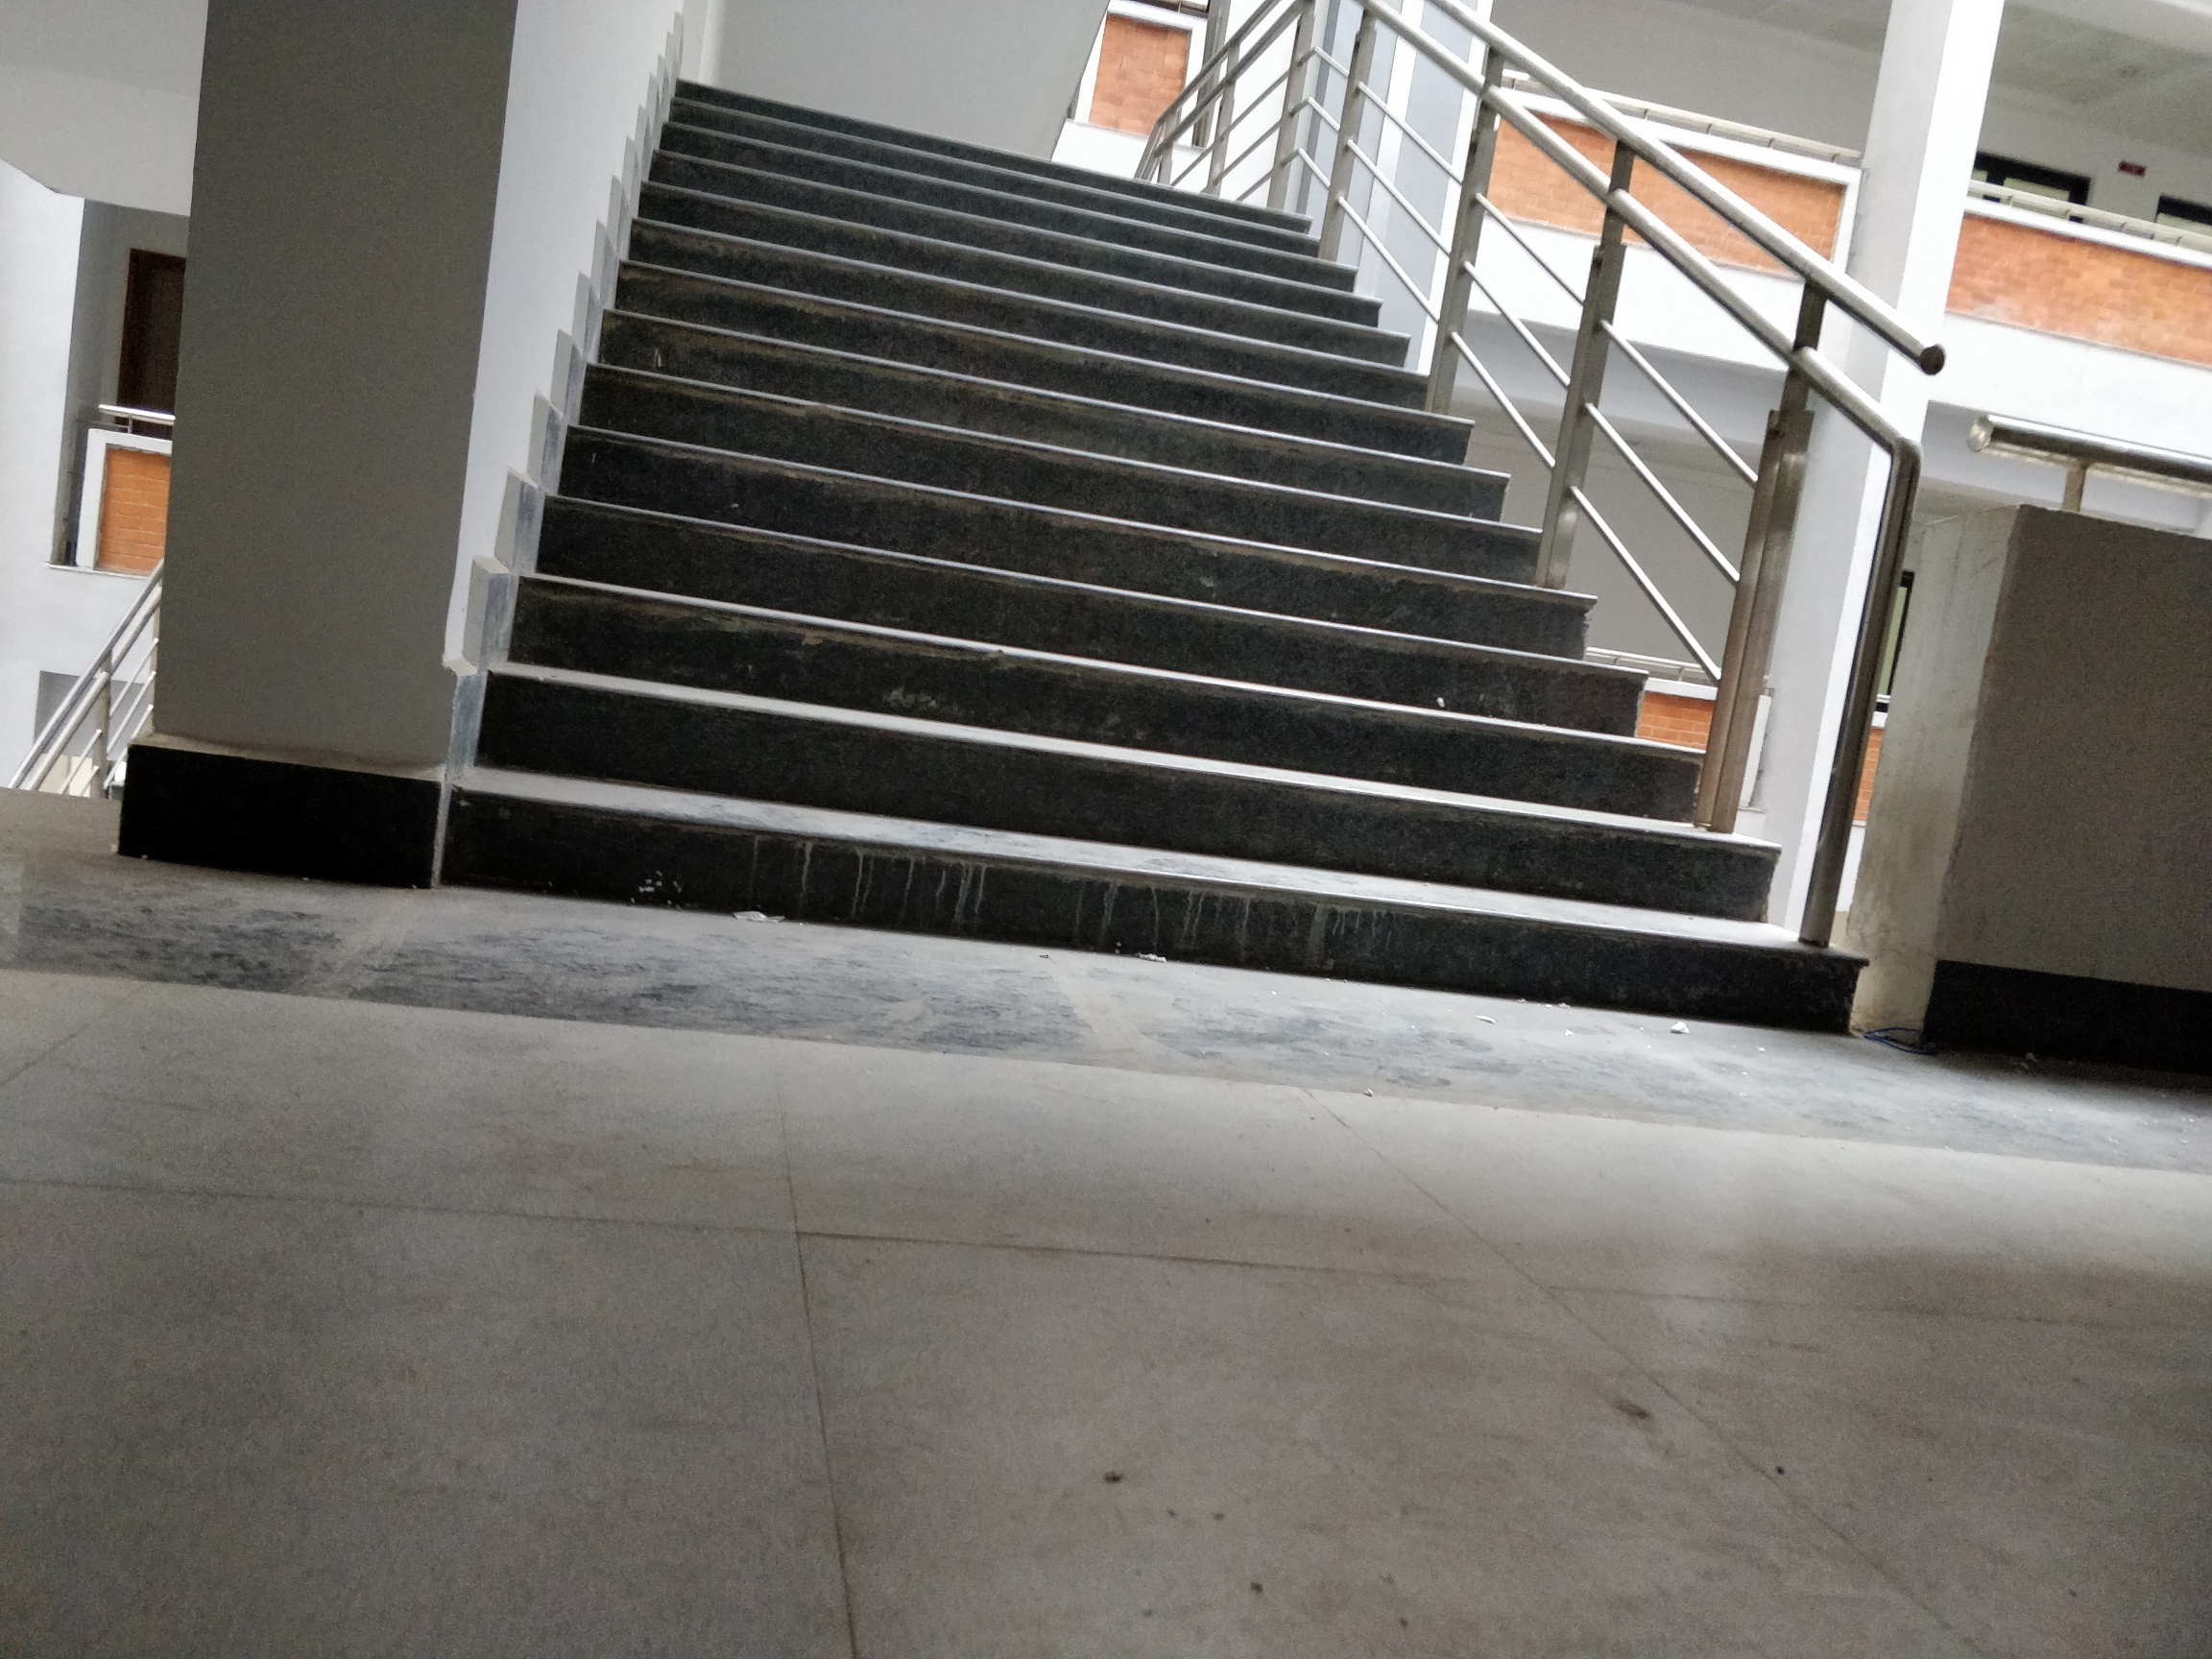stairs_up: (502, 138, 1669, 945)
